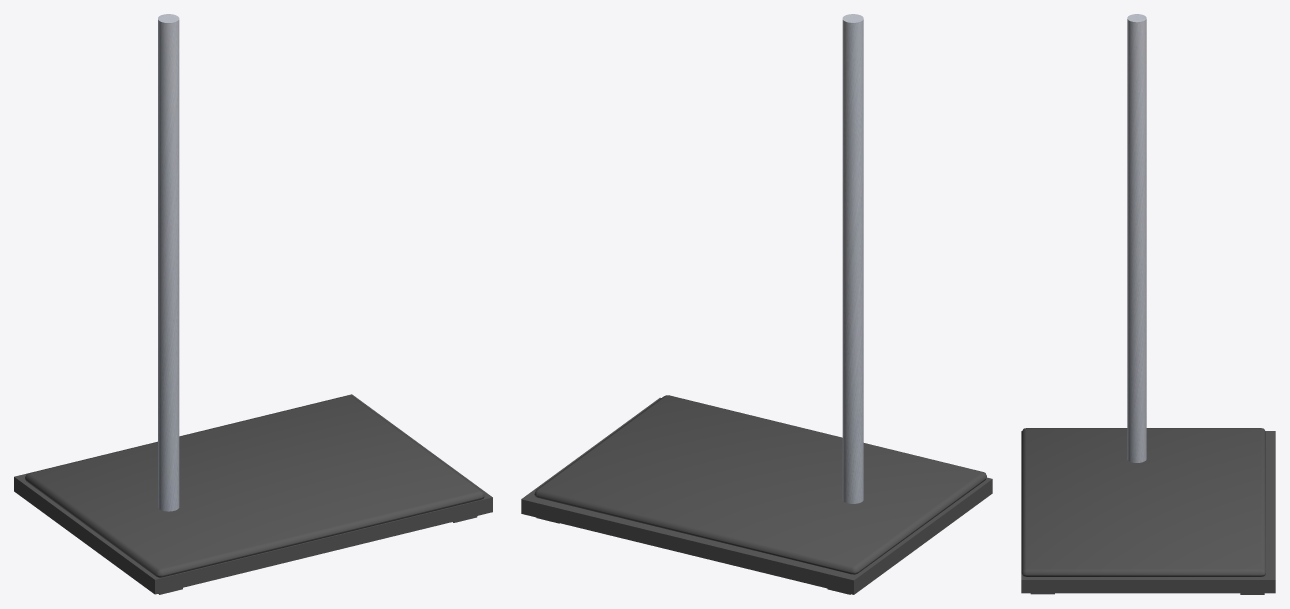
File: dizuo.obj
3 renders of one model, left to right at view 1: azimuth 30°, elevation 25°; view 2: azimuth 150°, elevation 25°; view 3: azimuth 270°, elevation 25°, orthographic. The views are drawn at different scales.
Visible parts, largest first — view 1: ChamferBox001, Cylinder001, Box002; view 2: ChamferBox001, Cylinder001, Box002; view 3: ChamferBox001, Cylinder001, Box002.
Boxes of the visible parts, x1=… form: ChamferBox001: x1=25, y1=395, x2=484, y2=577; Cylinder001: x1=158, y1=14, x2=179, y2=511; Box002: x1=14, y1=394, x2=492, y2=594; ChamferBox001: x1=534, y1=395, x2=986, y2=574; Cylinder001: x1=842, y1=14, x2=863, y2=503; Box002: x1=521, y1=397, x2=992, y2=594; ChamferBox001: x1=1021, y1=428, x2=1265, y2=576; Cylinder001: x1=1127, y1=14, x2=1146, y2=462; Box002: x1=1021, y1=431, x2=1275, y2=593.
Bounding box in the file's own units: 72 × 105 × 52.
2 materials, 1 textured.
